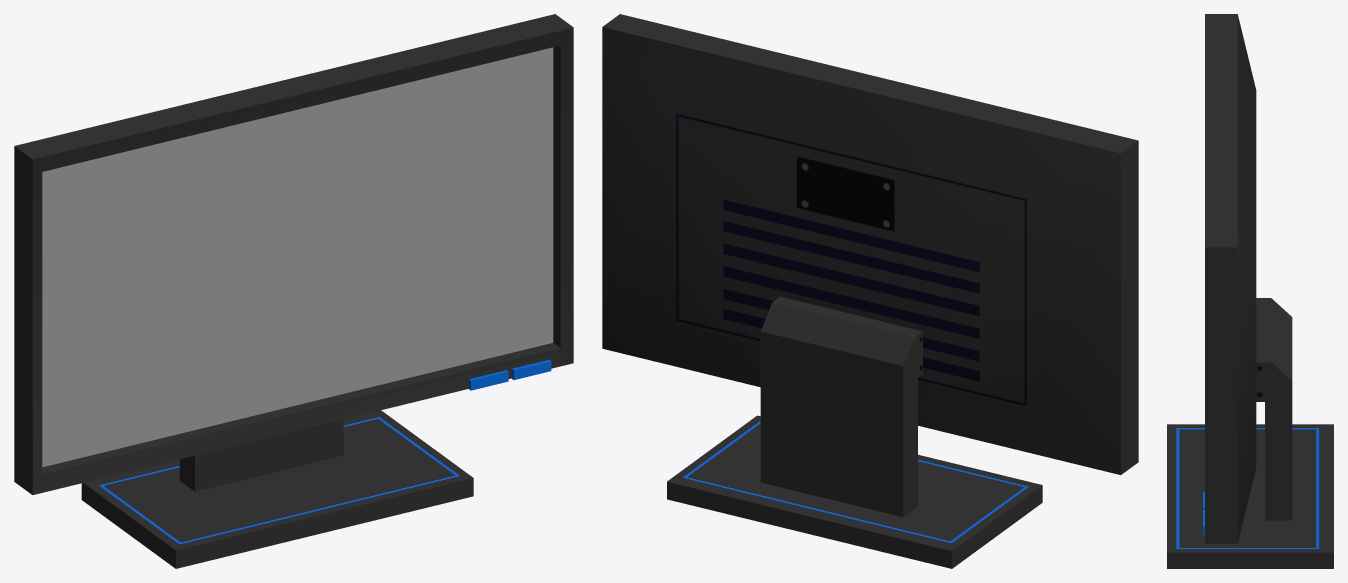
File: Monitor.glb
The picture shows the model from 3 angles, left to right: view 1: azimuth 30°, elevation 25°; view 2: azimuth 150°, elevation 25°; view 3: azimuth 270°, elevation 25°; orthographic projection. The views are drawn at different scales.
Visible parts, largest first — view 1: Monitor; view 2: Monitor; view 3: Monitor.
Part boxes in pixels (<box>): Monitor: <box>14,14,573,568</box>; Monitor: <box>602,14,1138,568</box>; Monitor: <box>1167,14,1333,568</box>.
Size of the model in its own units: 379 by 284 by 115.
1 material, 1 textured.
